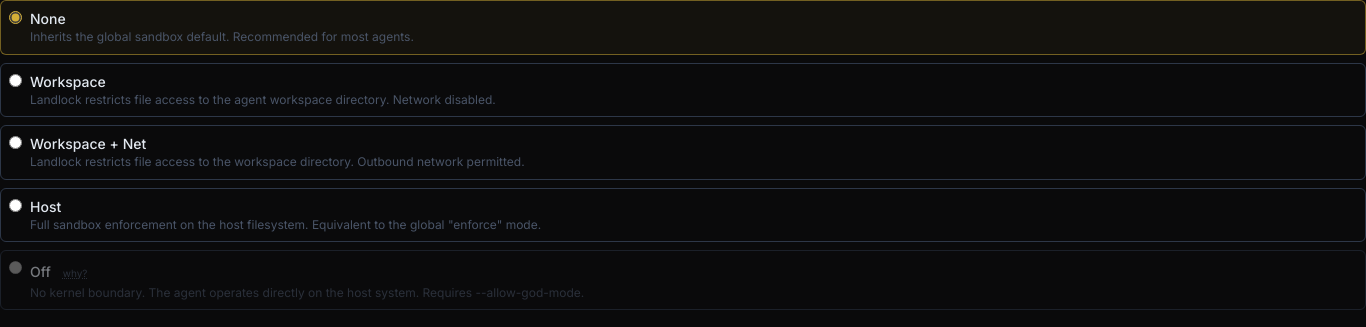
Test: SandboxProfileSelector › tooltip text present when godModeAvailable=false
The width and height of the screenshot is (1366, 327).
Hover over the button with aria-label "Why is this disabled".
mouse_move(75, 273)  # box top-left (63, 265), bottom-right (88, 281)
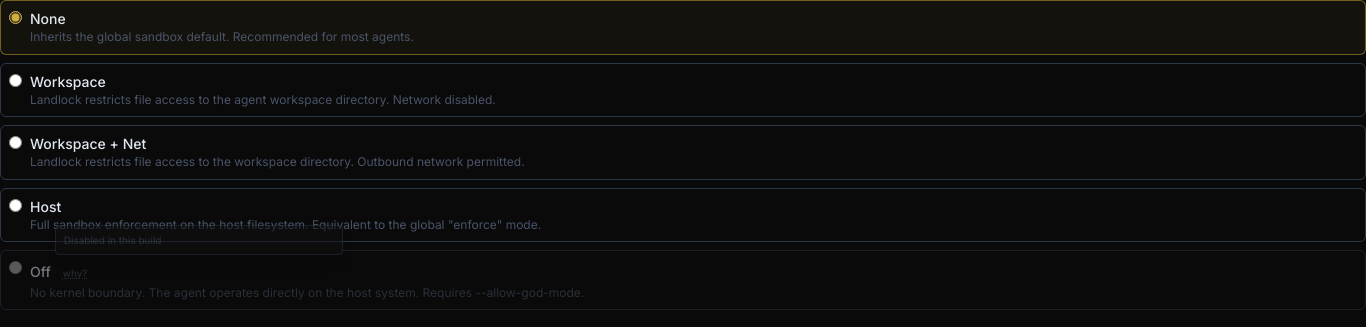
Now the tooltip reads "Disabled in this build", box top-left (64, 234), bottom-right (162, 246)
